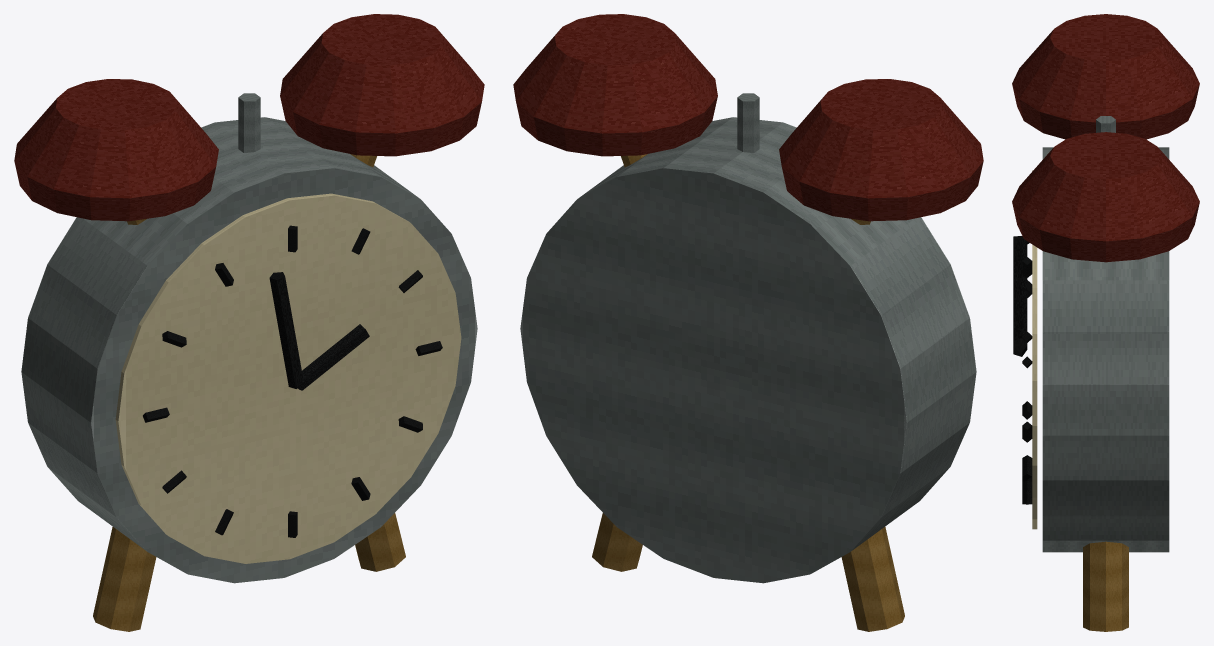
Rendered from level_event_alarm_clock.glb.
3 views of the same model, side by side, from view 1: azimuth 30°, elevation 25°; view 2: azimuth 150°, elevation 25°; view 3: azimuth 270°, elevation 25° (orthographic). The views are drawn at different scales.
Parts seen in each view (by area): view 1: level_event_alarm_clock; view 2: level_event_alarm_clock; view 3: level_event_alarm_clock.
Boxes of the visible parts, box(x1,y1,x2,y2) form: level_event_alarm_clock: box(14, 14, 484, 631); level_event_alarm_clock: box(513, 14, 983, 631); level_event_alarm_clock: box(1012, 14, 1199, 631).
Bounding box in the file's own units: 0.184 × 0.2071 × 0.074.
5 materials, 5 textured.
